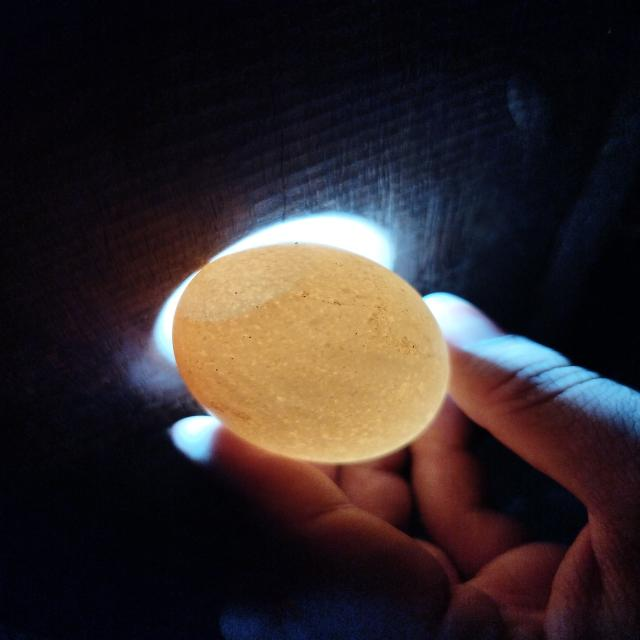Camara de Ar: (179, 246, 302, 321)
